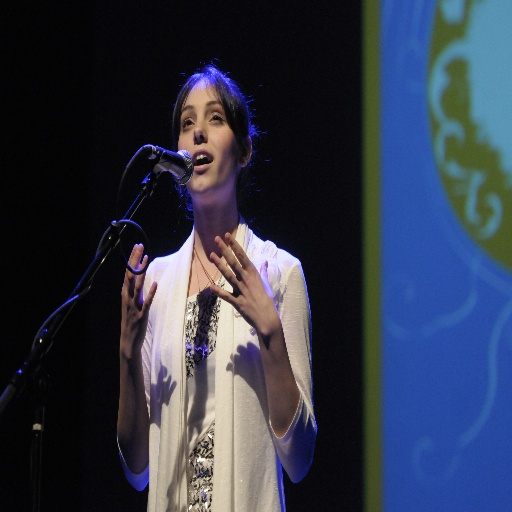hand: (208, 230, 282, 336), (117, 240, 158, 357)
